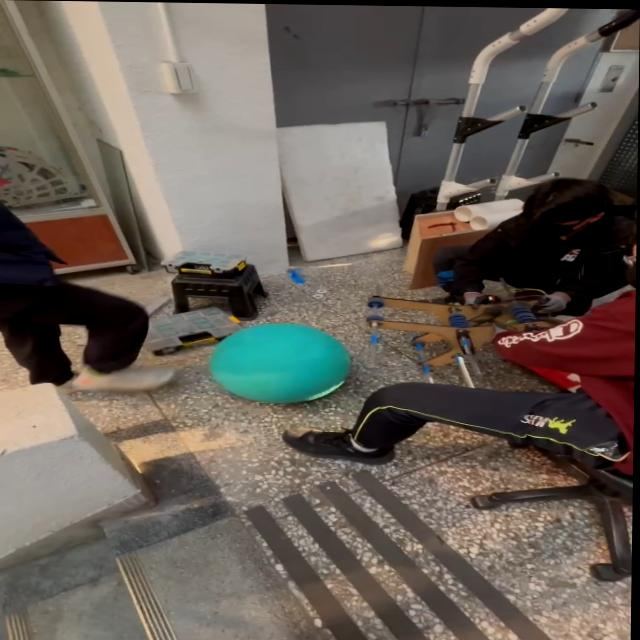ALGAE: (207, 321, 353, 406)
